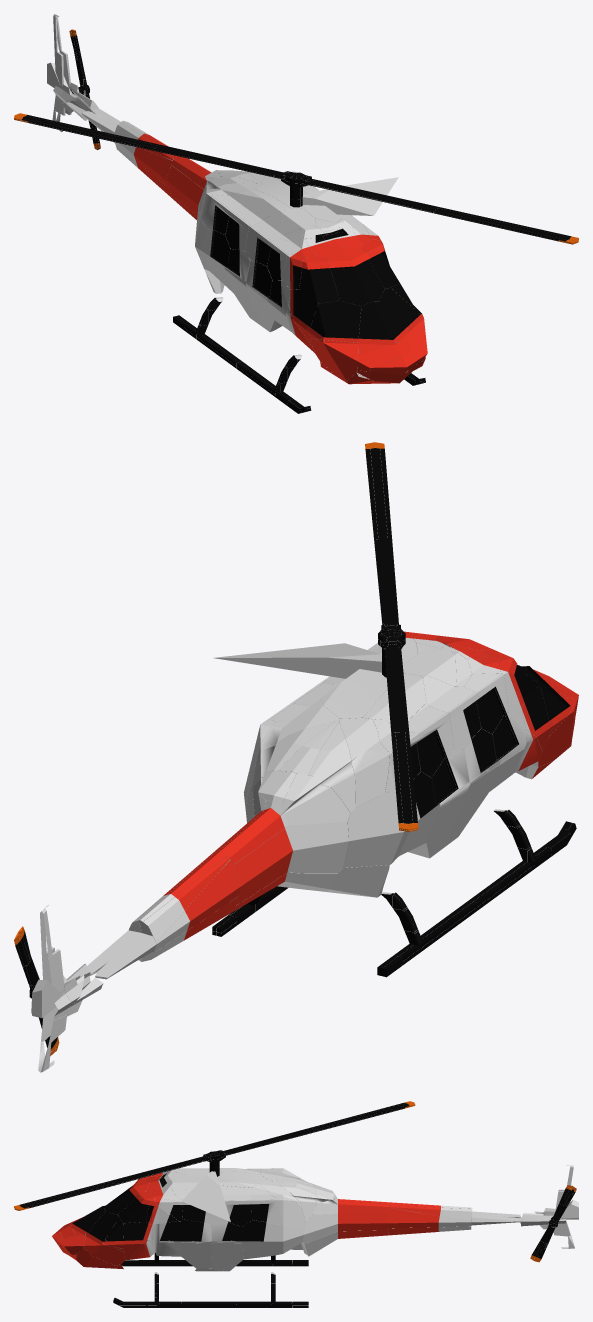
The picture shows the model from 3 angles, top to bottom: view 1: azimuth 30°, elevation 25°; view 2: azimuth 150°, elevation 25°; view 3: azimuth 270°, elevation 25°; orthographic projection. The views are drawn at different scales.
Parts seen in each view (by area): view 1: helicopter_cell.041, blades_cell.045, helicopter_cell.145, helicopter_cell.018, helicopter_cell.168, helicopter_cell.060, helicopter_cell.097, helicopter_cell.040, helicopter_cell.120, helicopter_cell.011, helicopter_cell.176, helicopter_cell.133 (+20 smaller); view 2: helicopter_cell.120, helicopter_cell.049, blades_cell.045, helicopter_cell.053, helicopter_cell.061, helicopter_cell.176, helicopter_cell.150, helicopter_cell.127, helicopter_cell.068, helicopter_cell.097, helicopter_cell.065, helicopter_cell.094 (+26 smaller); view 3: helicopter_cell.020, helicopter_cell.016, blades_cell.045, helicopter_cell.082, helicopter_cell.002, helicopter_cell.078, helicopter_cell.026, helicopter_cell.102, helicopter_cell.128, helicopter_cell.003, helicopter_cell.183, helicopter_cell.157 (+27 smaller).
Part boxes in pixels (x1,y1,x2,y2): helicopter_cell.041: [327, 247, 384, 306]; blades_cell.045: [298, 177, 398, 215]; helicopter_cell.145: [307, 300, 361, 342]; helicopter_cell.018: [358, 301, 408, 355]; helicopter_cell.168: [299, 256, 339, 303]; helicopter_cell.060: [310, 338, 358, 381]; helicopter_cell.097: [246, 262, 281, 331]; helicopter_cell.040: [202, 229, 233, 293]; helicopter_cell.120: [166, 165, 203, 224]; helicopter_cell.011: [379, 287, 423, 335]; helicopter_cell.176: [115, 142, 172, 186]; helicopter_cell.133: [288, 289, 319, 346]; helicopter_cell.120: [234, 821, 348, 904]; helicopter_cell.049: [343, 792, 409, 867]; blades_cell.045: [214, 643, 381, 678]; helicopter_cell.053: [339, 718, 389, 807]; helicopter_cell.061: [283, 773, 350, 825]; helicopter_cell.176: [153, 859, 241, 952]; helicopter_cell.150: [320, 669, 406, 718]; helicopter_cell.127: [308, 722, 355, 812]; helicopter_cell.068: [408, 758, 467, 858]; helicopter_cell.097: [448, 728, 499, 844]; helicopter_cell.065: [219, 800, 289, 864]; helicopter_cell.094: [87, 930, 156, 979]; helicopter_cell.020: [243, 1220, 303, 1259]; helicopter_cell.016: [303, 1214, 388, 1243]; blades_cell.045: [181, 1171, 230, 1221]; helicopter_cell.082: [180, 1219, 211, 1268]; helicopter_cell.002: [211, 1222, 243, 1271]; helicopter_cell.078: [388, 1208, 471, 1228]; helicopter_cell.026: [312, 1199, 389, 1214]; helicopter_cell.102: [152, 1221, 180, 1256]; helicopter_cell.128: [220, 1185, 251, 1226]; helicopter_cell.003: [123, 1222, 152, 1260]; helicopter_cell.183: [302, 1230, 388, 1256]; helicopter_cell.157: [276, 1197, 305, 1231].
Size of the model in its own units: 627 by 357 by 1377.
